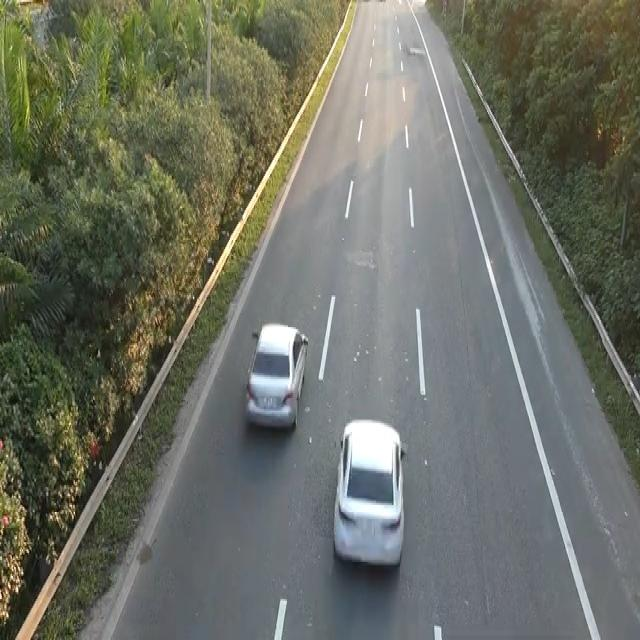bus: (331, 414, 406, 569), (243, 318, 309, 432)
